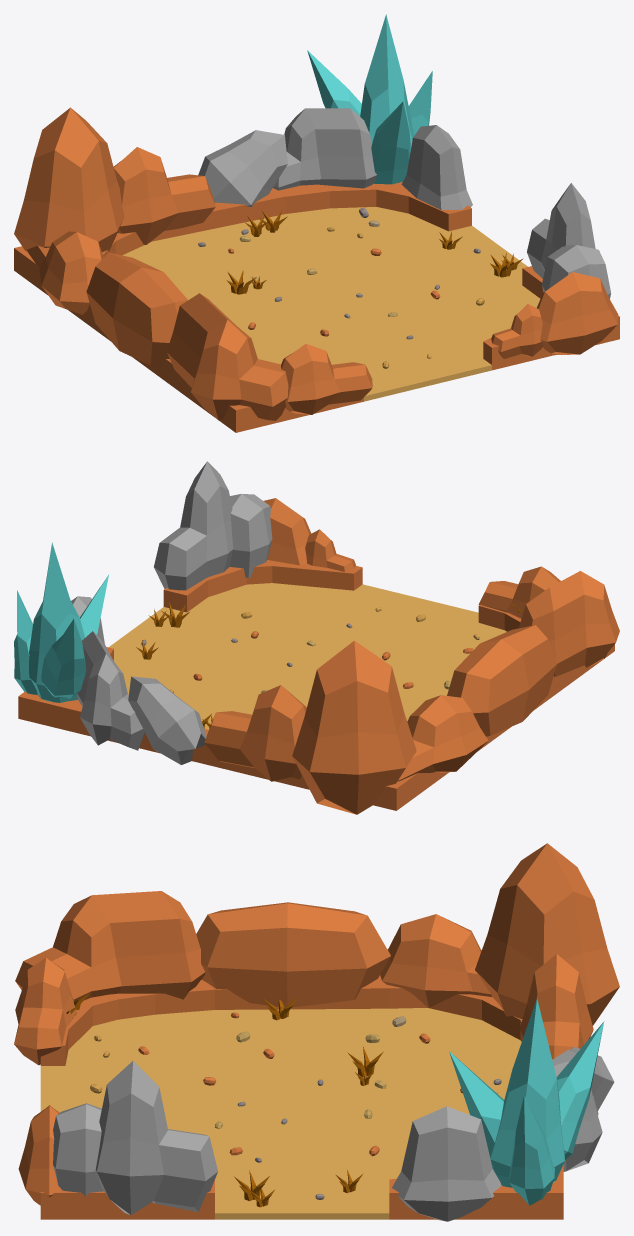
File: cave level set - 2 Way (3).fbx
The picture shows the model from 3 angles, top to bottom: view 1: azimuth 30°, elevation 25°; view 2: azimuth 150°, elevation 25°; view 3: azimuth 270°, elevation 25°; orthographic projection. The views are drawn at different scales.
Parts seen in each view (by area): view 1: land_platform_001, Cube_013, Cube_003, Cube_011, Cube_004, Cube_001, Cube_010, Cube_005, Cube_000, Cube_002, Cube_006, Cube_012 (+3 smaller); view 2: land_platform_001, Cube_013, Cube_011, Cube_004, Cube_009, Cube_003, Cube_010, Cube_012, Cube_001, Cube_000, Cube_008, Cube_005 (+2 smaller); view 3: land_platform_001, Cube_004, Cube_013, Cube_011, Cube_003, Cube_009, Cube_006, Cube_012, Cube_002, Cube_010, Cube_008, Cube_005 (+2 smaller).
Boxes of the visible parts, x1,y1,x2,y2 form: land_platform_001: [14, 182, 619, 432]; Cube_013: [14, 107, 124, 252]; Cube_003: [167, 293, 288, 420]; Cube_011: [307, 14, 432, 184]; Cube_004: [86, 252, 187, 367]; Cube_001: [273, 108, 376, 190]; Cube_010: [113, 147, 215, 244]; Cube_005: [537, 272, 618, 355]; Cube_000: [198, 130, 287, 206]; Cube_002: [281, 343, 372, 414]; Cube_006: [401, 125, 472, 209]; Cube_012: [26, 231, 103, 314]; land_platform_001: [18, 560, 614, 810]; Cube_013: [292, 640, 416, 814]; Cube_011: [14, 542, 108, 702]; Cube_004: [447, 625, 556, 736]; Cube_009: [154, 461, 233, 590]; Cube_003: [519, 571, 619, 676]; Cube_010: [204, 685, 306, 781]; Cube_012: [397, 695, 488, 781]; Cube_001: [77, 631, 144, 750]; Cube_000: [128, 676, 206, 764]; Cube_008: [229, 493, 272, 577]; Cube_005: [264, 498, 311, 565]; land_platform_001: [40, 975, 563, 1219]; Cube_004: [196, 902, 390, 1007]; Cube_013: [475, 843, 619, 1025]; Cube_011: [449, 998, 604, 1205]; Cube_003: [15, 891, 205, 1001]; Cube_009: [95, 1060, 217, 1214]; Cube_006: [392, 1106, 501, 1221]; Cube_012: [380, 914, 491, 1007]; Cube_002: [14, 958, 76, 1065]; Cube_010: [520, 954, 593, 1059]; Cube_008: [53, 1103, 102, 1196]; Cube_005: [18, 1105, 62, 1205].
Bounding box in the file's own units: 16.83 × 6.97 × 17.59.
